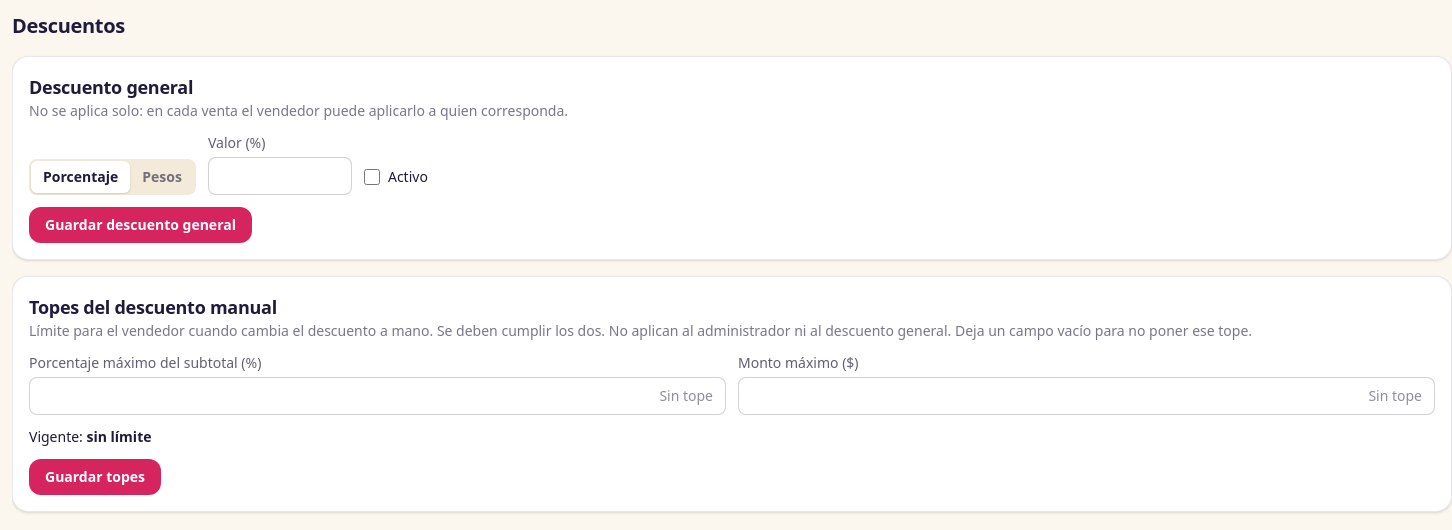
Scenario: Descuentos (administrador) › valida antes de enviar: porcentaje mayor a 100 y pesos con centavos
Type "120" into the field labelled "Valor (%)" at (280, 176), box [208,157,352,195]
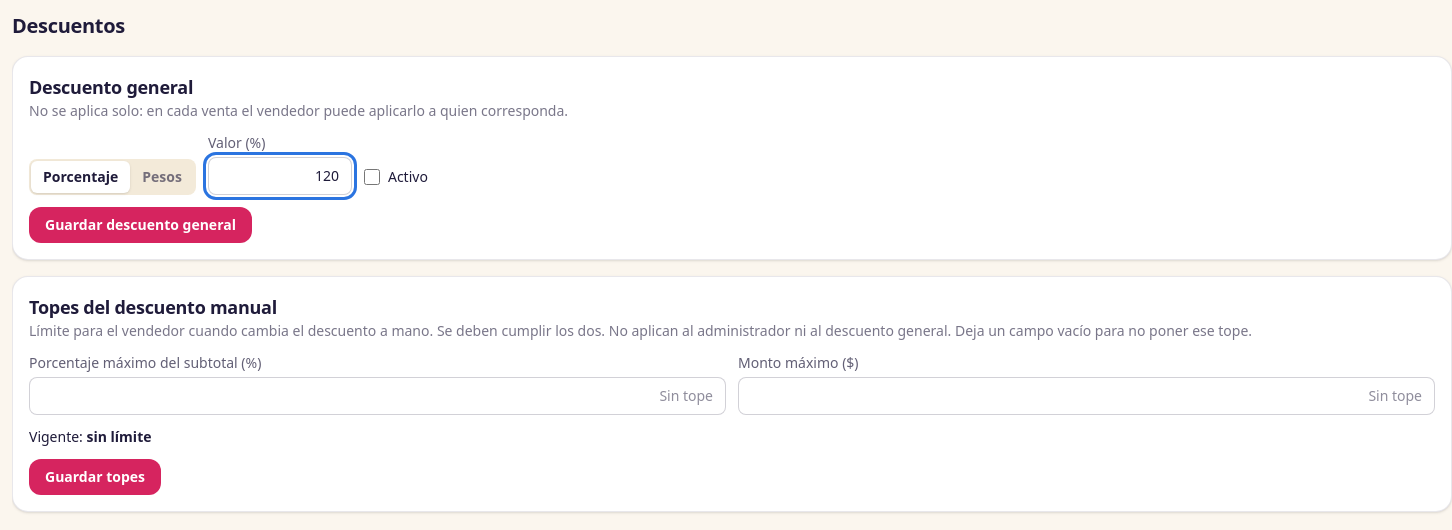
Click the button "Guardar descuento general" at (140, 225), box [29,207,252,243]
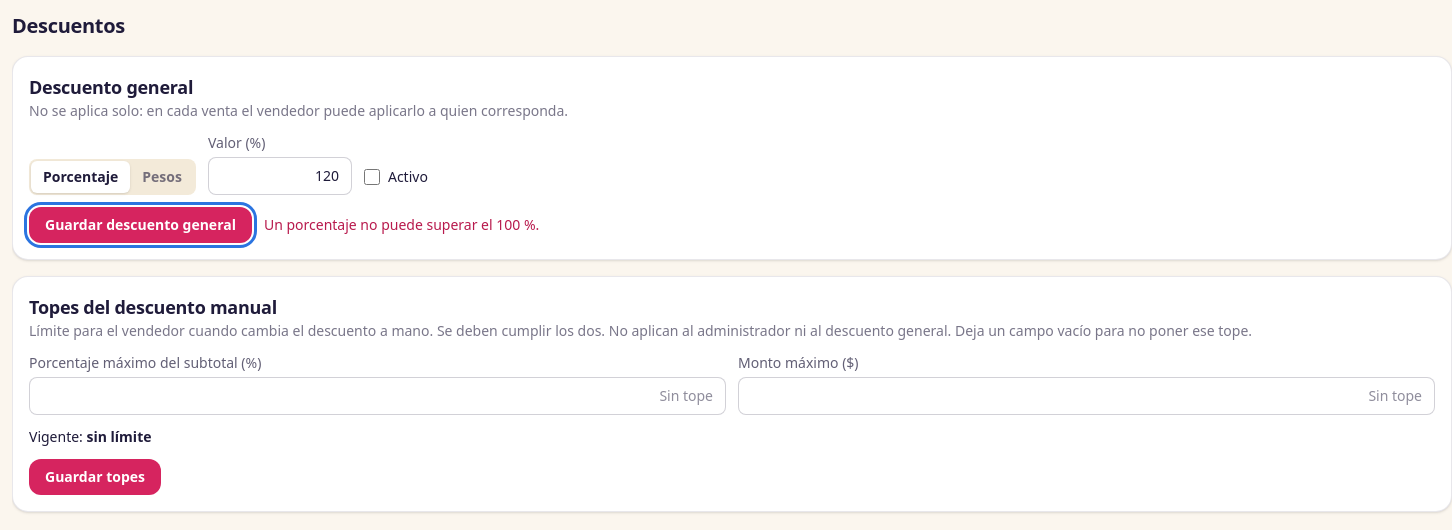
expect the message shows "100 %": met, box [264,215,539,234]
Click the radio button labelled "Pesos" at (162, 177), box [130,161,194,193]
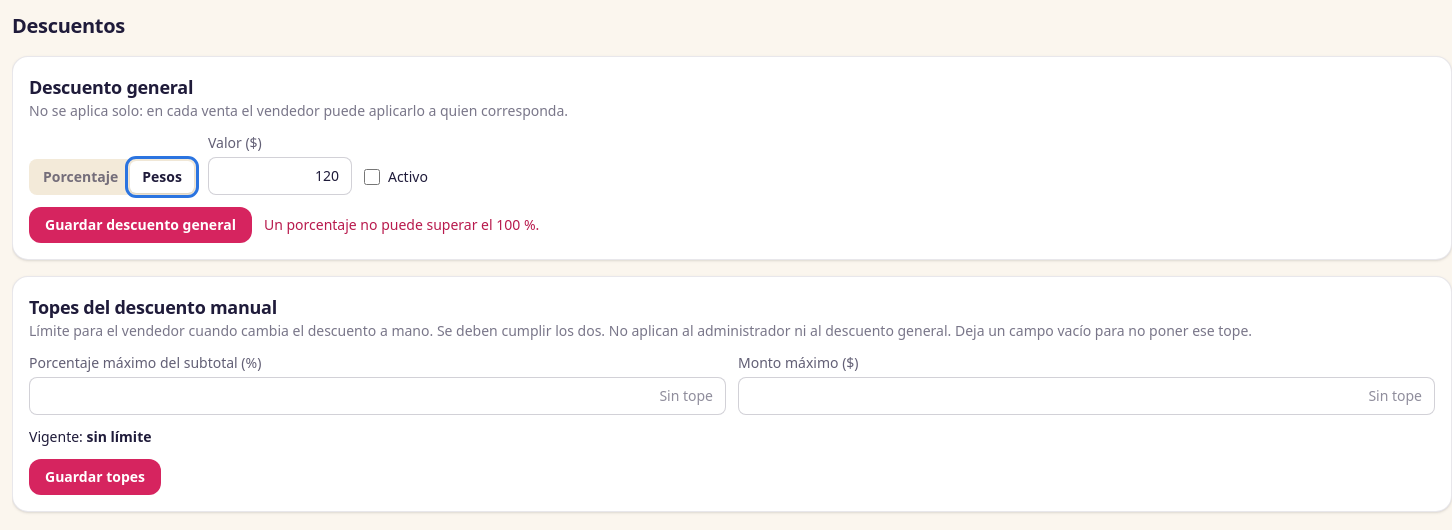
Replace the text in the field labelled "Valor ($)" with "1000,5" at (280, 176), box [208,157,352,195]
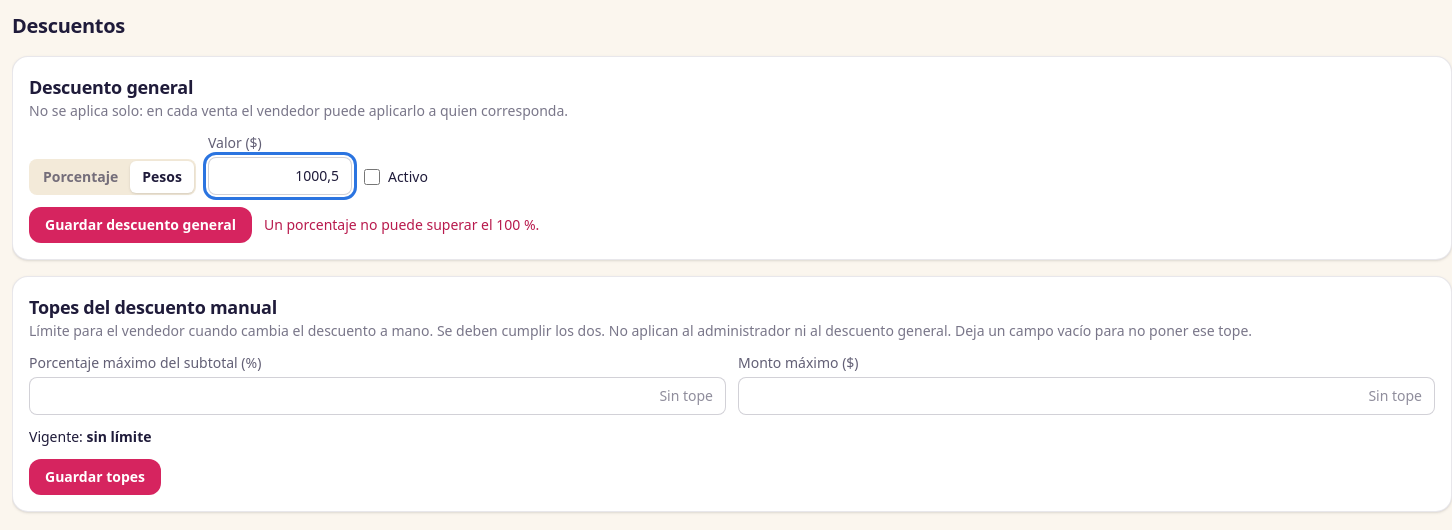
Click the button "Guardar descuento general" at (140, 225), box [29,207,252,243]
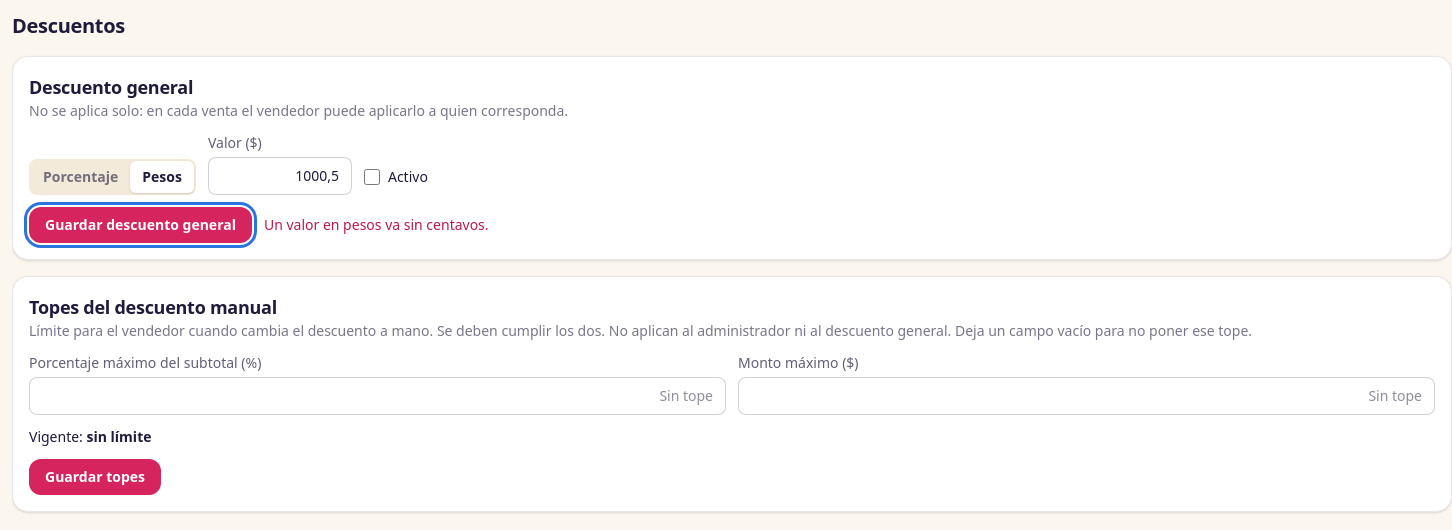
expect the message shows "sin centavos": met, box [264,215,489,234]
